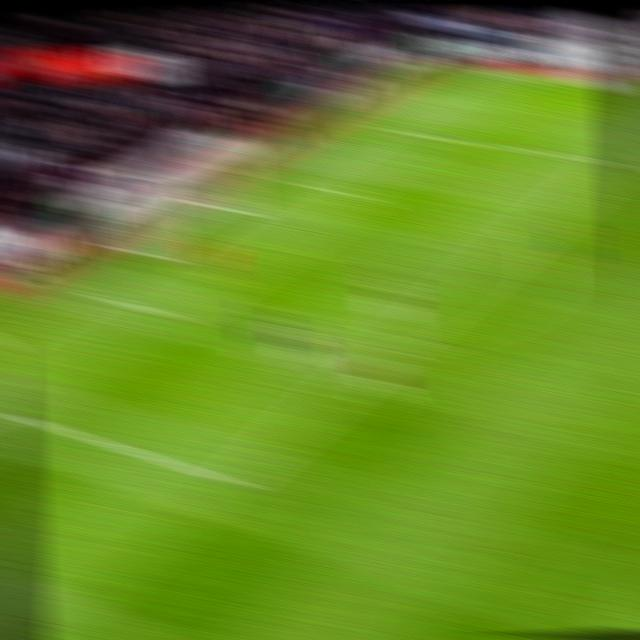bigarea_bottom_inner: (208, 464, 254, 497)
bigarea_top_inner: (595, 147, 636, 175)
bigarea_top_outter: (358, 115, 394, 139)
bottom_arc_area_intersection: (370, 335, 410, 360)
corner: (451, 61, 491, 81)
smallarea_bottom_inner: (153, 299, 197, 332)
smallarea_bottom_outter: (70, 277, 114, 308)
smallarea_top_inner: (341, 182, 381, 210)
smallarea_top_outter: (266, 167, 305, 193)
top_arc_area_intersection: (506, 223, 544, 249)
